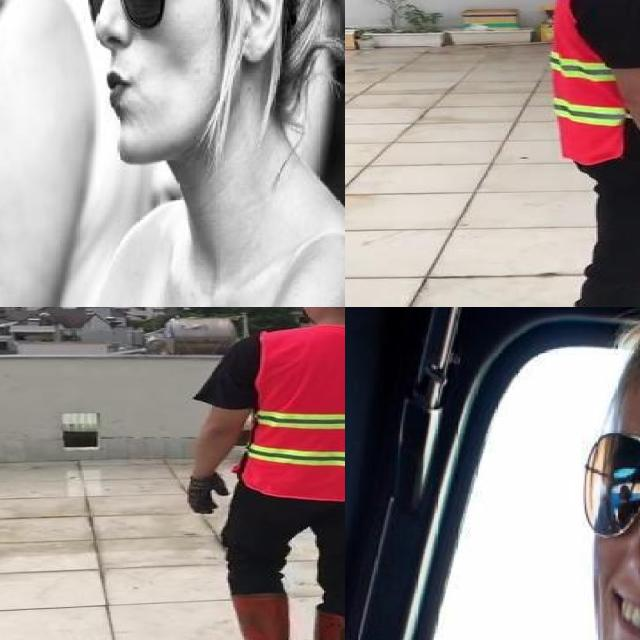No_Ear-Protection: (234, 0, 291, 69)
boots: (215, 593, 293, 640), (304, 607, 345, 640)
face_nomask: (80, 0, 189, 124), (587, 434, 640, 640)
glasses: (587, 423, 640, 558), (86, 0, 225, 30)
hand_glove: (187, 476, 230, 515)
person: (63, 0, 345, 307), (172, 307, 345, 640), (528, 0, 640, 307), (0, 0, 109, 307)
vest: (243, 329, 345, 502), (551, 0, 640, 165)
